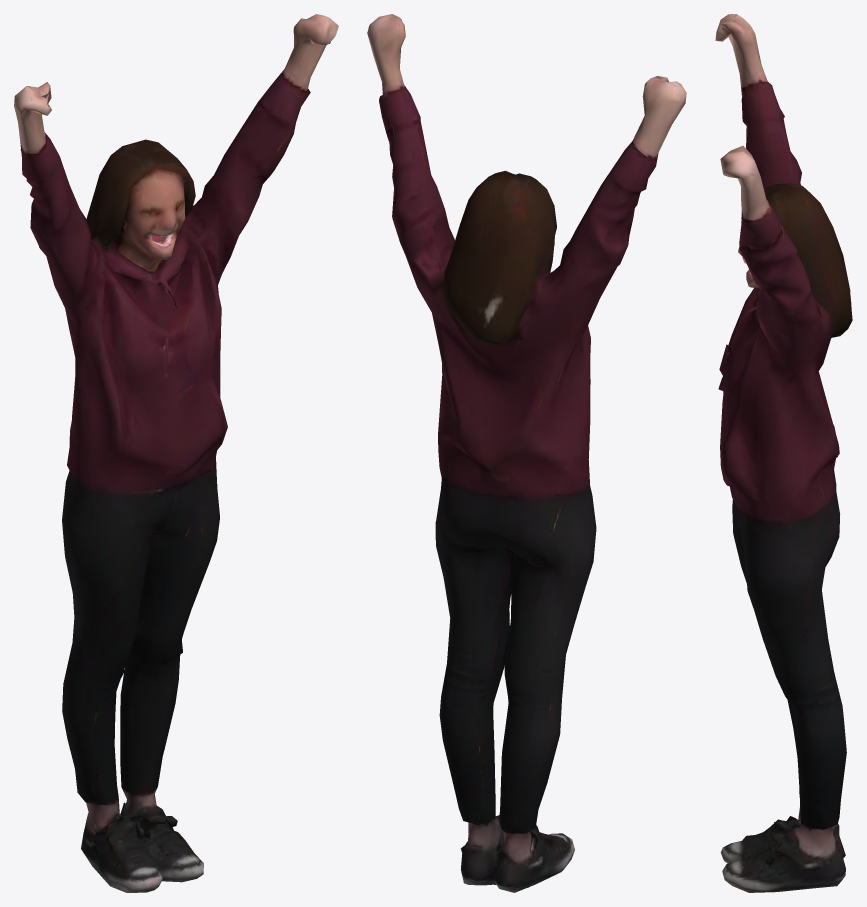
File: fan-w-arms-s1.lo.glb
3 views of the same model, side by side, from view 1: azimuth 30°, elevation 25°; view 2: azimuth 150°, elevation 25°; view 3: azimuth 270°, elevation 25° (orthographic). The views are drawn at different scales.
Parts seen in each view (by area): view 1: geometry_0; view 2: geometry_0; view 3: geometry_0.
Part boxes in pixels (<box>): geometry_0: <box>14,14,338,892</box>; geometry_0: <box>367,14,686,892</box>; geometry_0: <box>715,14,852,892</box>.
Bounding box in the file's own units: 0.404 × 1 × 0.1561.
1 material, 1 textured.
